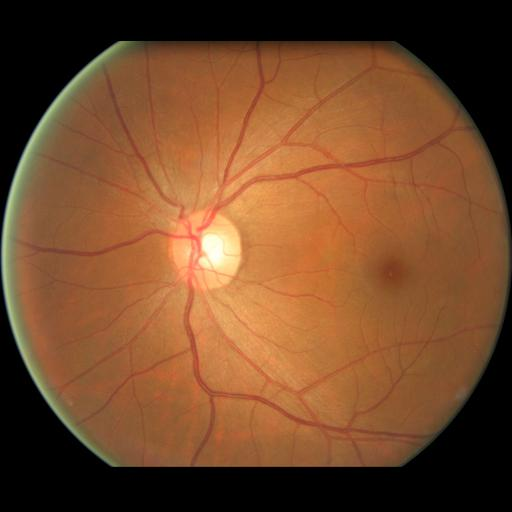Optic Cup: (195, 233, 228, 270)
Optic Disc: (169, 211, 241, 290)
